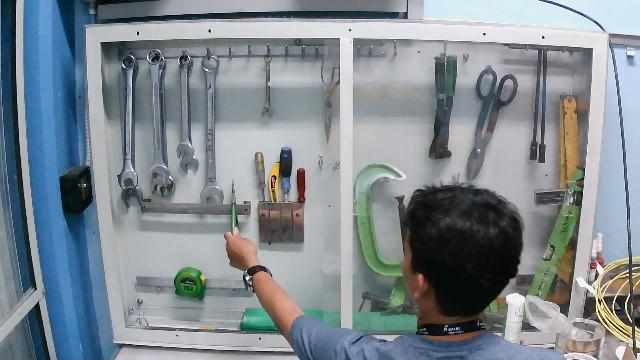tang_cucut_lancip_2: (219, 174, 253, 264)
